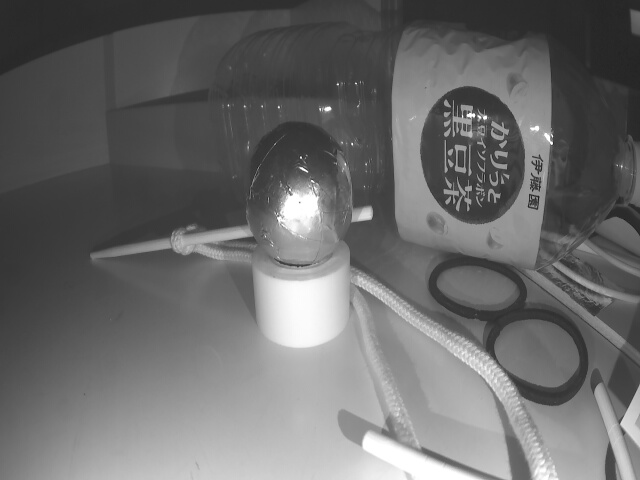Live: (241, 121, 353, 264)
Point: (103, 86, 245, 180)
